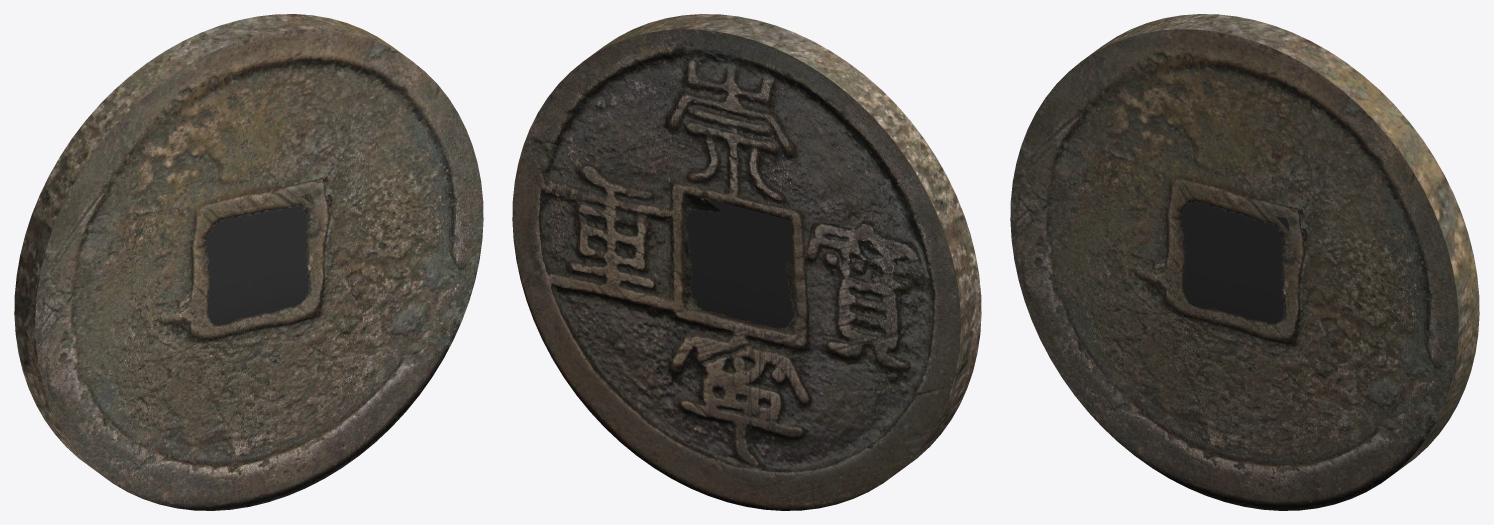
The model's file is Northern-Song-Dynasty-Coin.fbx.
3 views of the same model, side by side, from view 1: azimuth 30°, elevation 25°; view 2: azimuth 150°, elevation 25°; view 3: azimuth 330°, elevation 25° (orthographic).
Parts seen in each view (by area): view 1: Cylinder; view 2: Cylinder; view 3: Cylinder.
Part boxes in pixels (x1=…): Cylinder: x1=14, y1=14, x2=483, y2=510; Cylinder: x1=512, y1=14, x2=981, y2=510; Cylinder: x1=1010, y1=14, x2=1479, y2=510.
Bounding box in the file's own units: 200 × 200 × 16.03.
Materials: 1 (1 with a texture image).
